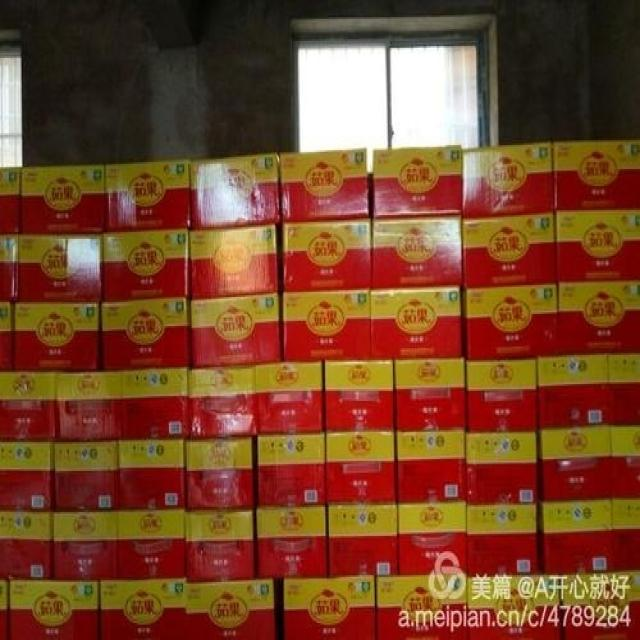box: (461, 210, 556, 288), (464, 284, 559, 360), (462, 142, 554, 218), (190, 153, 281, 229), (190, 293, 282, 367), (190, 224, 280, 299), (279, 219, 372, 291), (370, 288, 464, 358), (372, 214, 462, 287), (282, 289, 371, 362), (100, 298, 191, 369), (280, 149, 369, 221), (373, 145, 461, 217), (104, 159, 191, 231), (104, 229, 191, 301), (557, 280, 639, 355), (555, 210, 639, 282), (551, 142, 639, 210), (376, 573, 468, 638), (468, 574, 561, 638), (537, 498, 613, 574), (283, 576, 376, 638), (18, 234, 104, 301), (537, 426, 612, 502), (15, 302, 100, 369), (21, 165, 104, 232), (465, 359, 538, 433), (537, 355, 610, 429), (185, 507, 257, 582), (8, 580, 100, 638), (394, 358, 466, 431), (465, 431, 537, 504), (395, 429, 466, 503), (186, 579, 275, 638), (560, 572, 639, 638), (185, 437, 258, 508), (466, 504, 539, 575), (397, 502, 468, 575), (326, 431, 396, 505), (256, 507, 328, 578), (100, 579, 186, 638), (327, 506, 398, 577), (258, 432, 326, 506), (324, 360, 394, 431), (189, 366, 258, 438), (255, 362, 324, 434), (122, 368, 190, 439), (118, 439, 185, 510), (118, 509, 185, 579), (56, 372, 122, 441), (53, 510, 118, 580), (54, 441, 118, 511), (0, 372, 56, 441), (0, 442, 54, 511), (0, 510, 53, 578), (609, 424, 639, 498), (608, 355, 639, 425), (612, 498, 639, 572), (0, 235, 19, 300), (0, 302, 15, 369), (0, 577, 8, 638)
